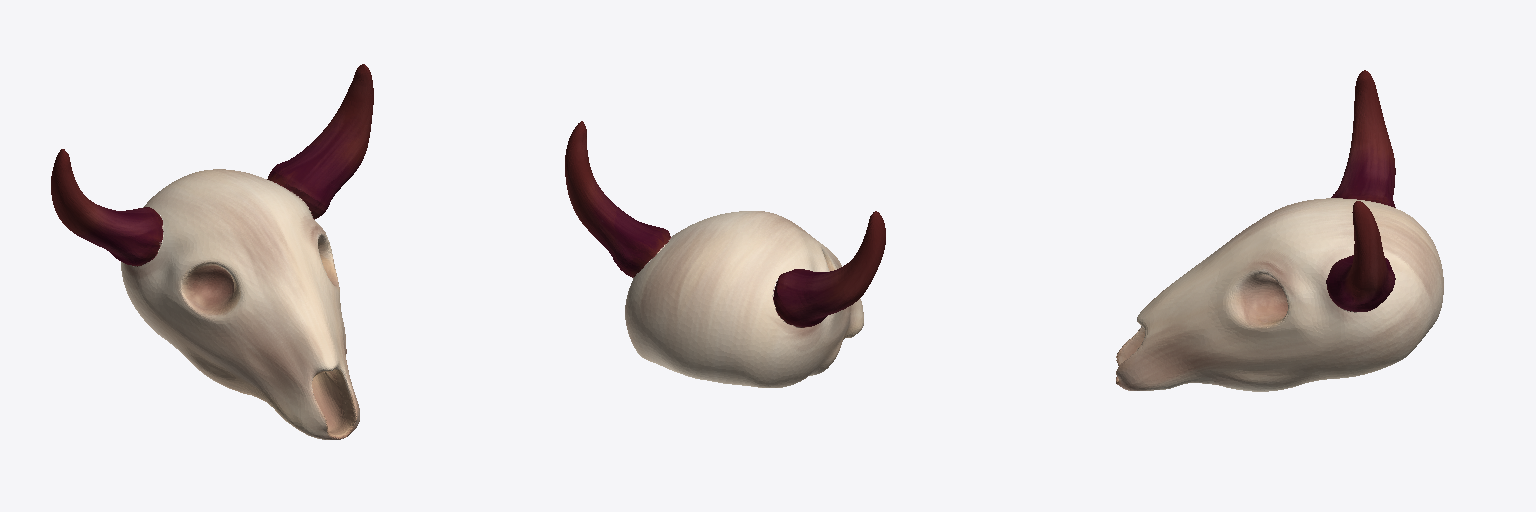
3 renders of one model, left to right at view 1: azimuth 30°, elevation 25°; view 2: azimuth 150°, elevation 25°; view 3: azimuth 270°, elevation 25°, orthographic.
Parts seen in each view (by area): view 1: Cone_1_Cone_1_Cone_1; view 2: Cone_1_Cone_1_Cone_1; view 3: Cone_1_Cone_1_Cone_1.
Part boxes in pixels (left/top/right/bottom): Cone_1_Cone_1_Cone_1: left=51, top=64, right=373, bottom=439; Cone_1_Cone_1_Cone_1: left=565, top=121, right=885, bottom=387; Cone_1_Cone_1_Cone_1: left=1116, top=70, right=1443, bottom=391.
Size of the model in its own units: 1.43 by 1.09 by 1.28.
1 materials, 1 textured.